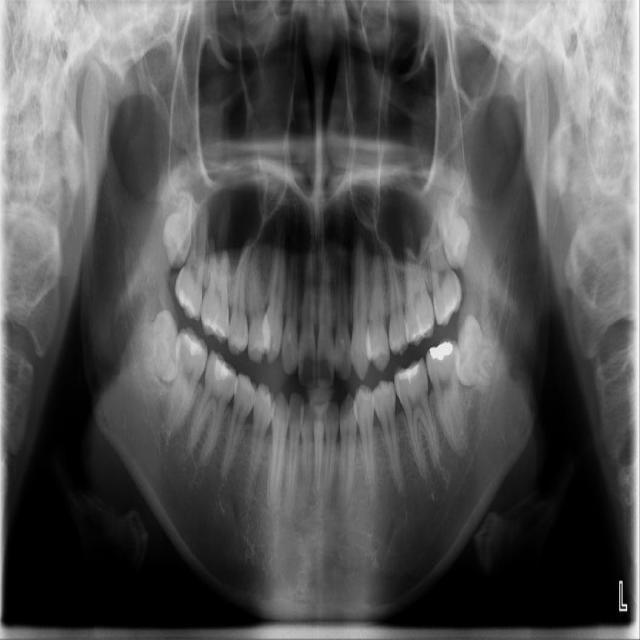Filling: (182, 334, 205, 357), (429, 341, 452, 361), (214, 356, 233, 378), (398, 364, 420, 382)
impacted tooth: (456, 315, 511, 394), (120, 311, 179, 383), (427, 187, 470, 267), (161, 193, 193, 270)
